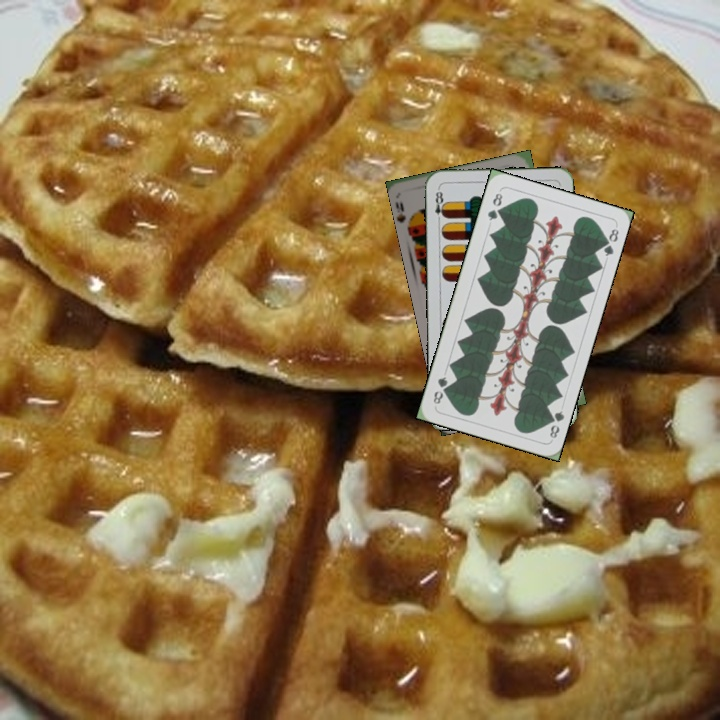E8: (431, 184, 448, 225)
G8: (483, 187, 505, 223), (544, 407, 567, 441)
S9: (393, 197, 418, 233)
